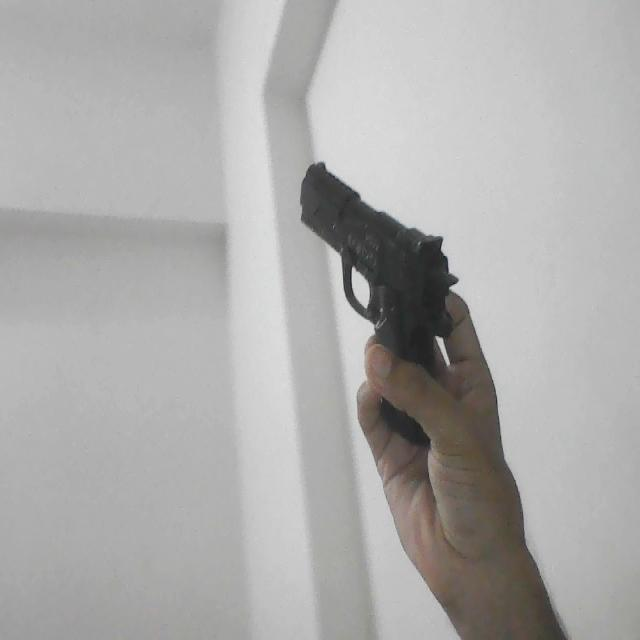handgun: (298, 158, 463, 448)
